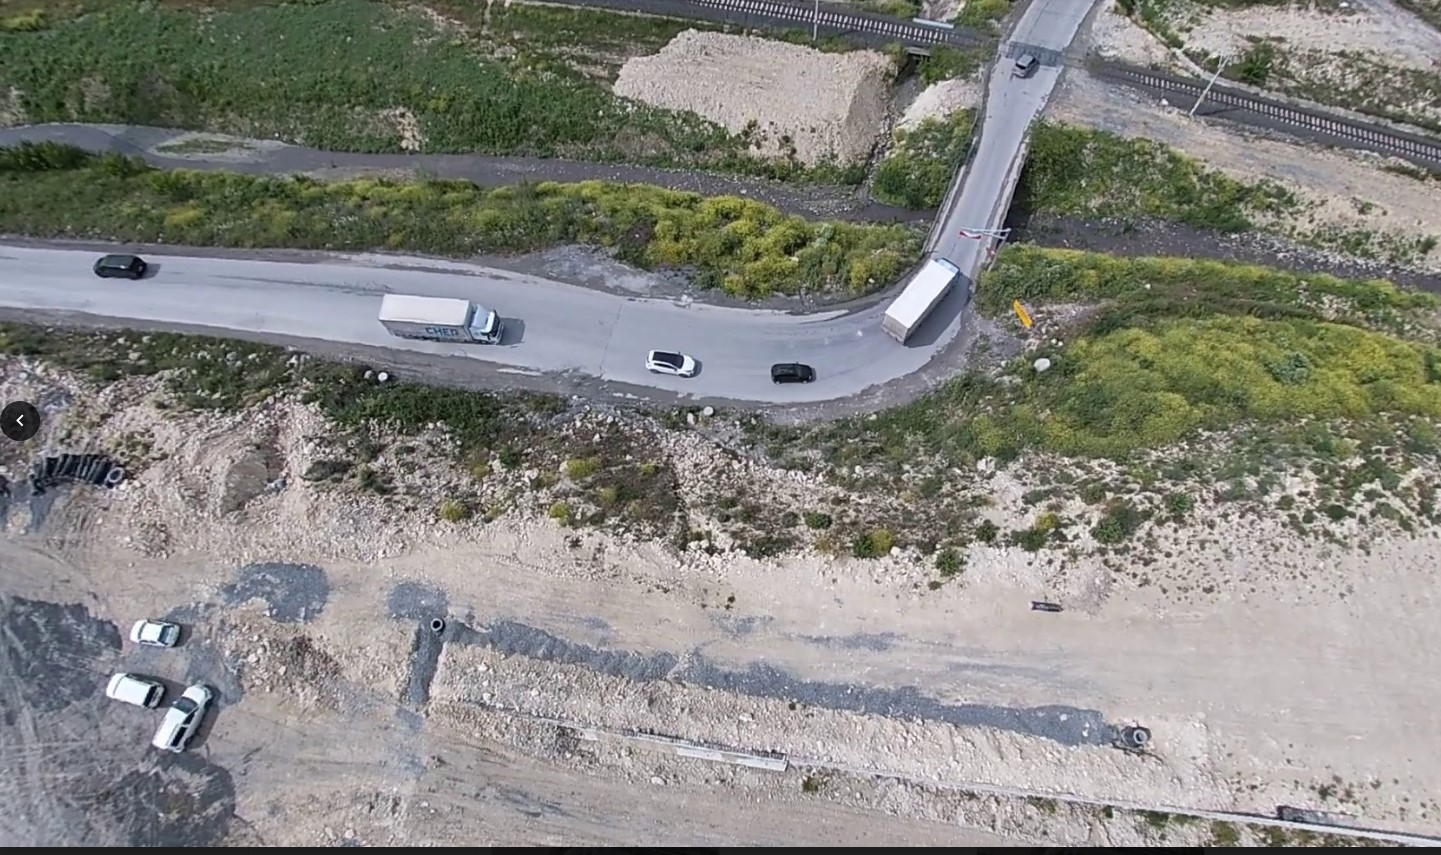araba: (149, 685, 215, 753), (106, 668, 166, 708), (127, 616, 184, 647), (646, 348, 700, 380), (95, 255, 142, 281), (767, 357, 815, 380), (1012, 51, 1036, 75)
kamyon: (883, 256, 967, 340), (378, 290, 506, 343)
